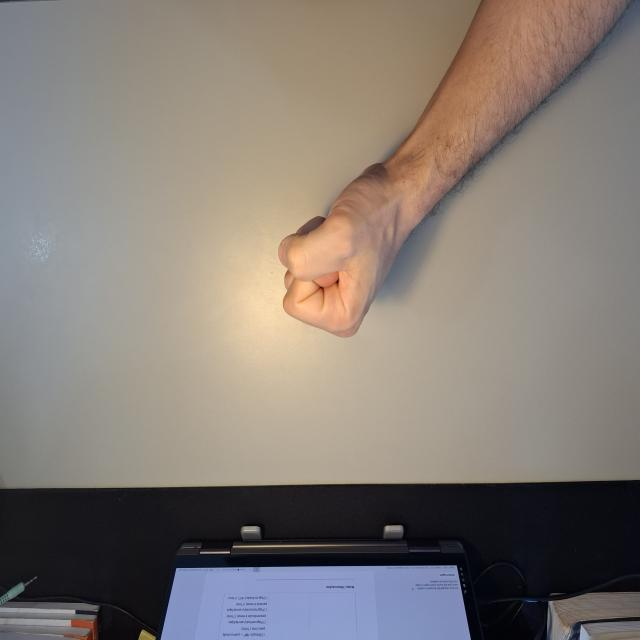glove_off: (276, 161, 430, 341)
